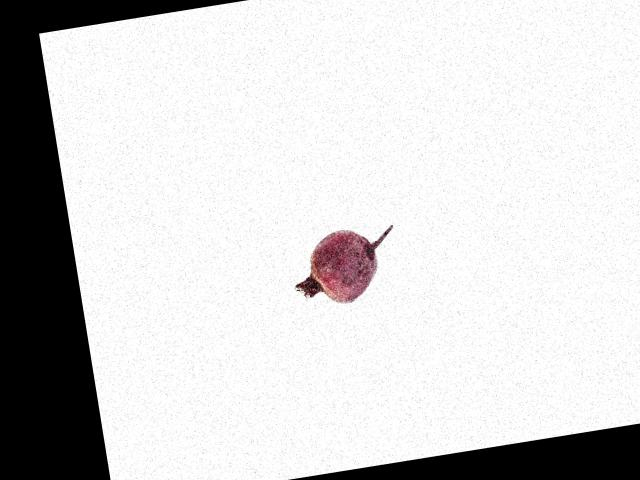beet: (287, 222, 402, 309)
